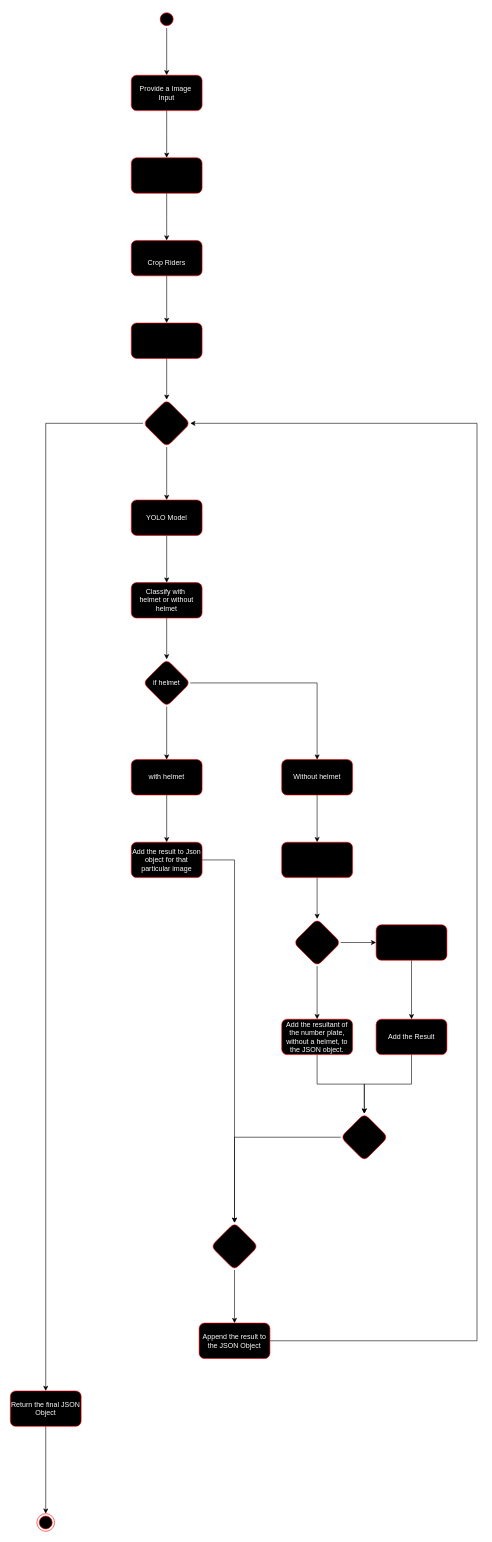
The diagram is 492 pixels wide and 1542 high, and some of its shapes have lost their labels. The shapes that lost their labels are listed below. From the top down, each one's box as (x1, y1, x2, y2) in pixels, then its label:
(131, 157, 202, 193): YOLO detects Riders
(131, 322, 202, 358): Array of Riders
(142, 399, 190, 447): While images
(281, 842, 353, 878): Extract Numberplate OCR
(293, 918, 341, 966): OCR model
(376, 924, 447, 960): Number plate cannot be detected
